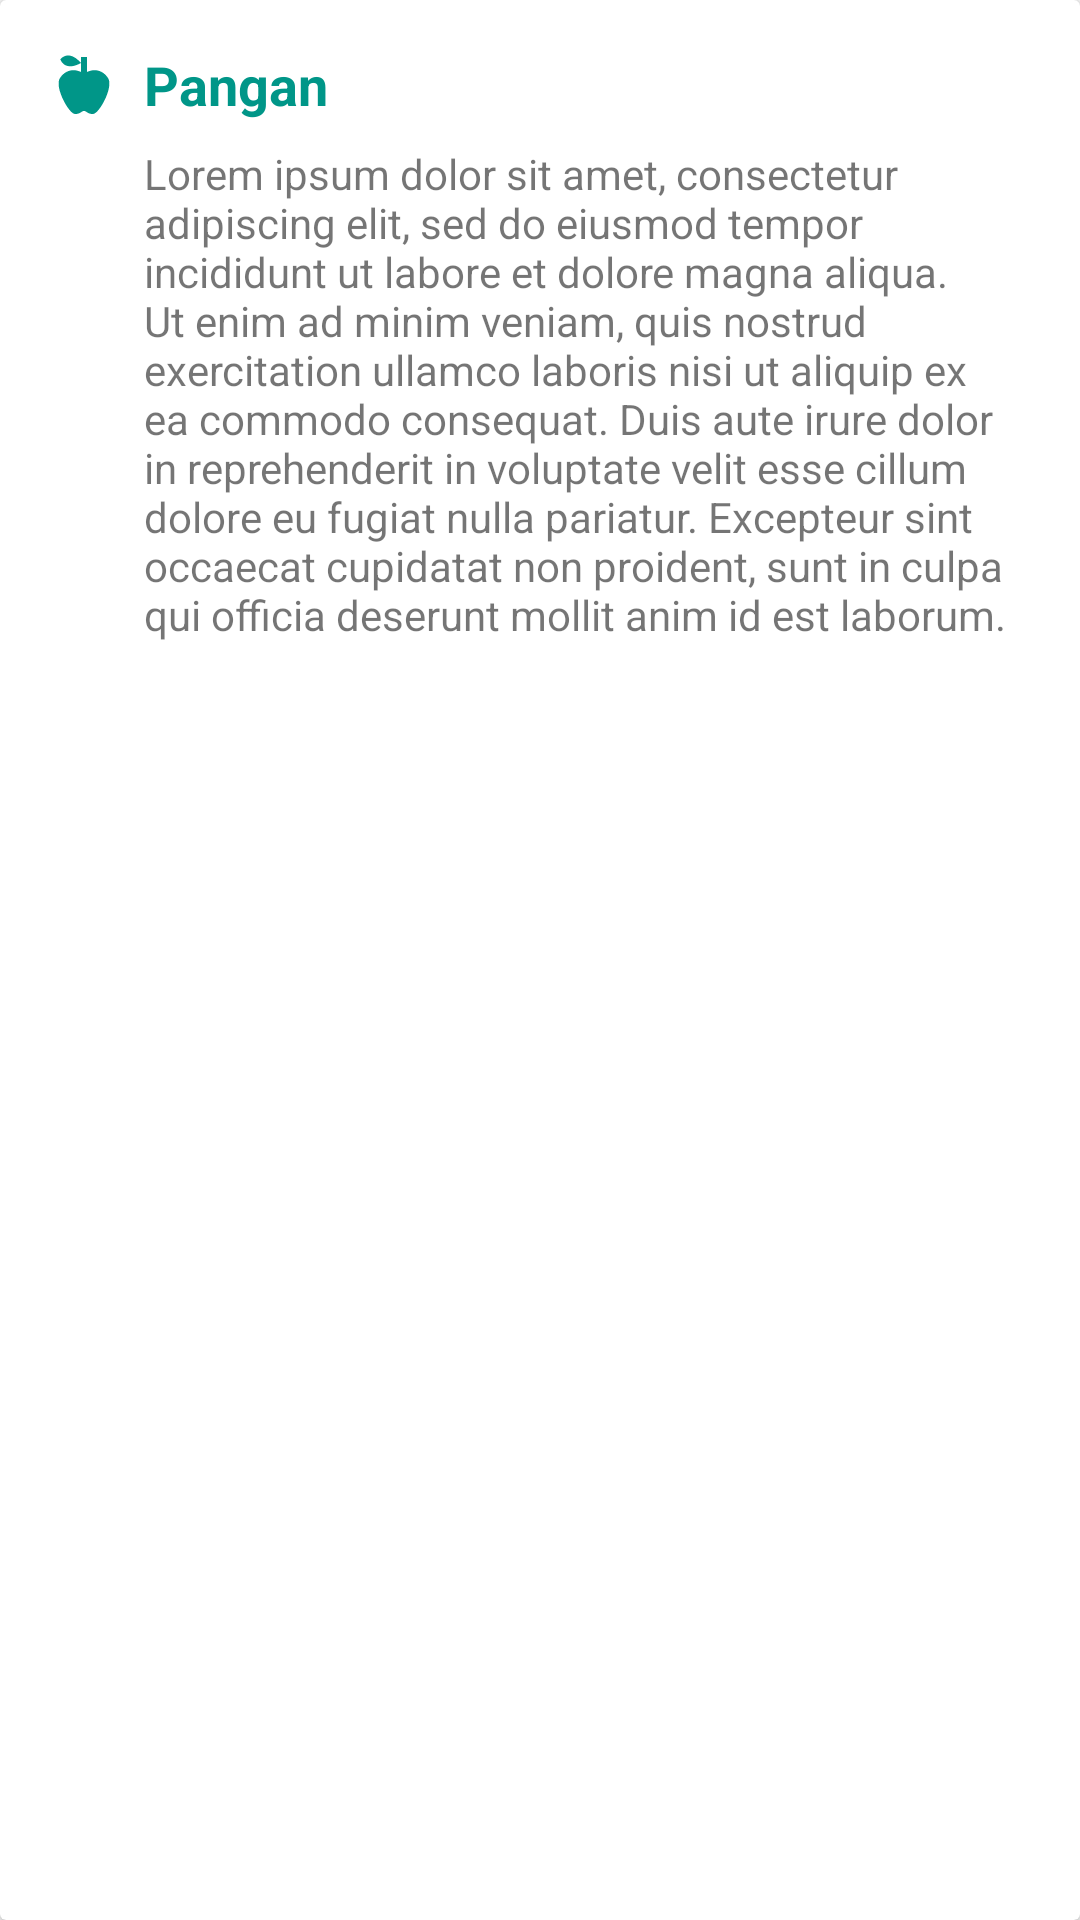

Icon bounding boxes for this 1080w x 1920h phone screenshot, format (x1=x1, y1=y1, x2=x2, y2=y2):
food: (x1=58, y1=55, x2=110, y2=114)
